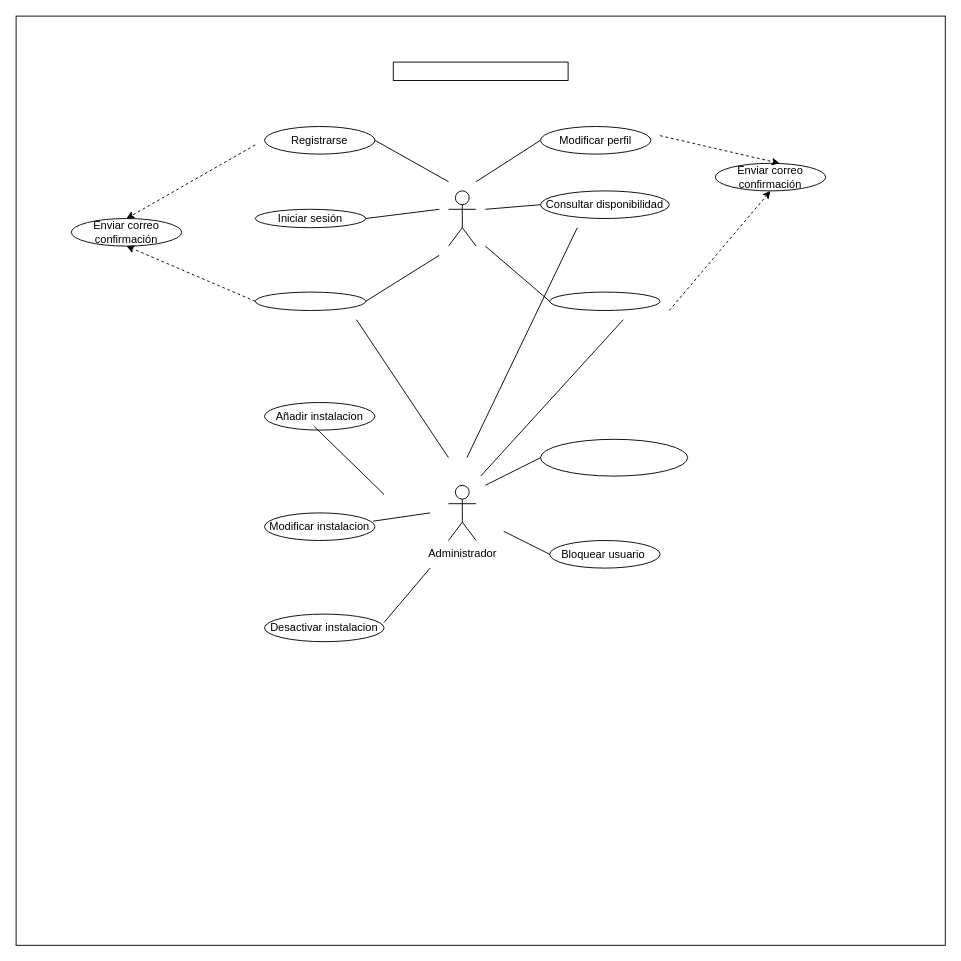
The diagram is 961 pixels wide and 961 high, and some of its shapes have lost their labels. The shapes that lost their labels are listed below. From the top down, each one's box as (x1, y1, x2, y2) in pixels, then its label:
(392, 61, 568, 80): Plataforma de reservas deportivas
(448, 190, 476, 246): Usuario
(254, 291, 366, 310): Realizar reserva
(549, 291, 660, 310): Cancelar reserva
(540, 438, 688, 476): Consultar listado de usuario
